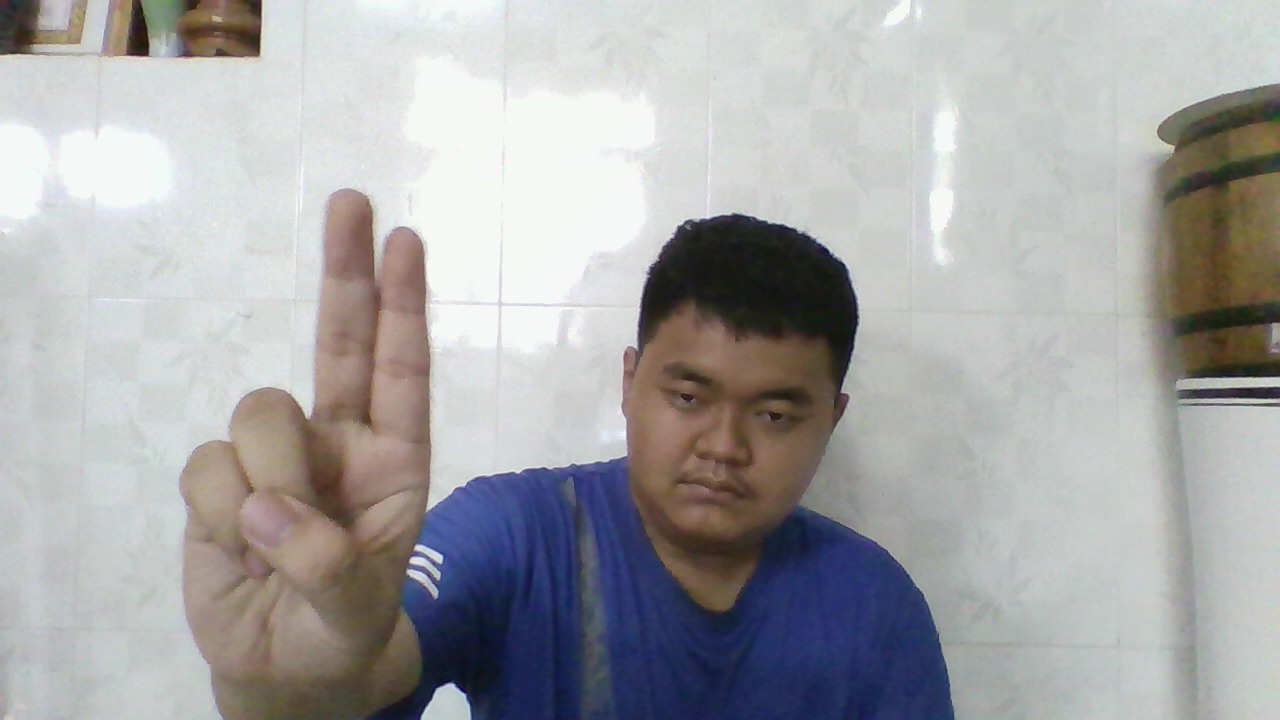U: (194, 193, 416, 713)
